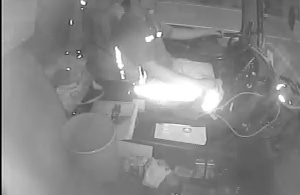paper: (153, 121, 209, 147)
